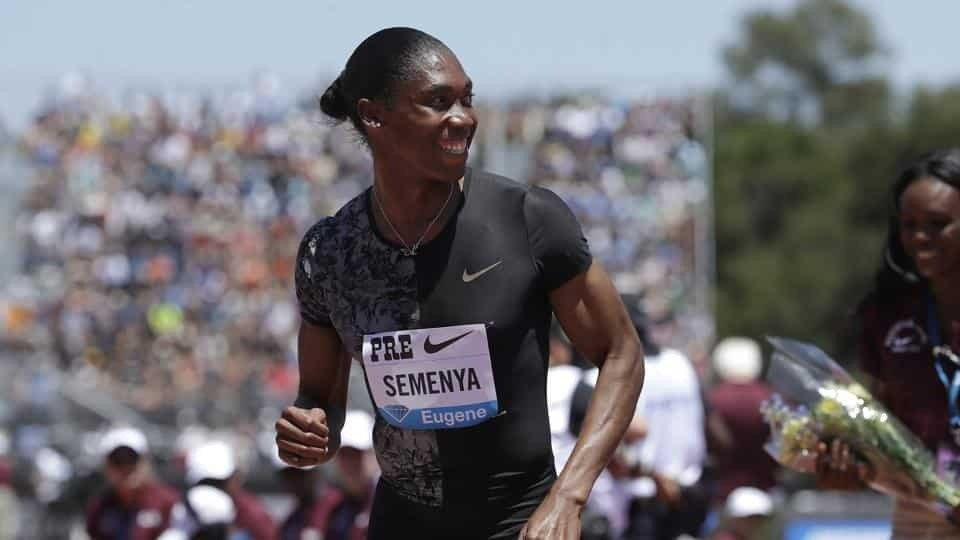face_no_mask: (320, 27, 479, 184), (887, 153, 956, 285)
